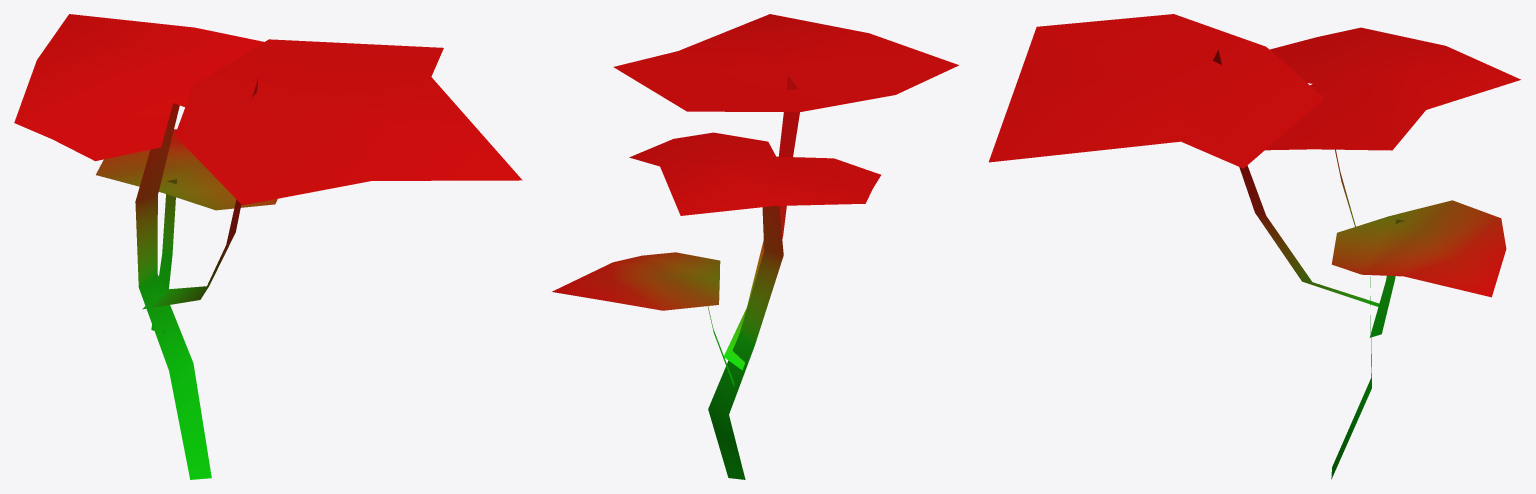
The model's file is Var10_LOD2.fbx.
3 renders of one model, left to right at view 1: azimuth 30°, elevation 25°; view 2: azimuth 150°, elevation 25°; view 3: azimuth 270°, elevation 25°, orthographic. The views are drawn at different scales.
Parts seen in each view (by area): view 1: _m2cm_Var10_LOD2; view 2: _m2cm_Var10_LOD2; view 3: _m2cm_Var10_LOD2.
Part boxes in pixels (left/top/right/bottom): _m2cm_Var10_LOD2: left=14, top=14, right=522, bottom=479; _m2cm_Var10_LOD2: left=552, top=14, right=958, bottom=479; _m2cm_Var10_LOD2: left=989, top=14, right=1520, bottom=479.
Size of the model in its own units: 9.81 by 11.41 by 12.98.
